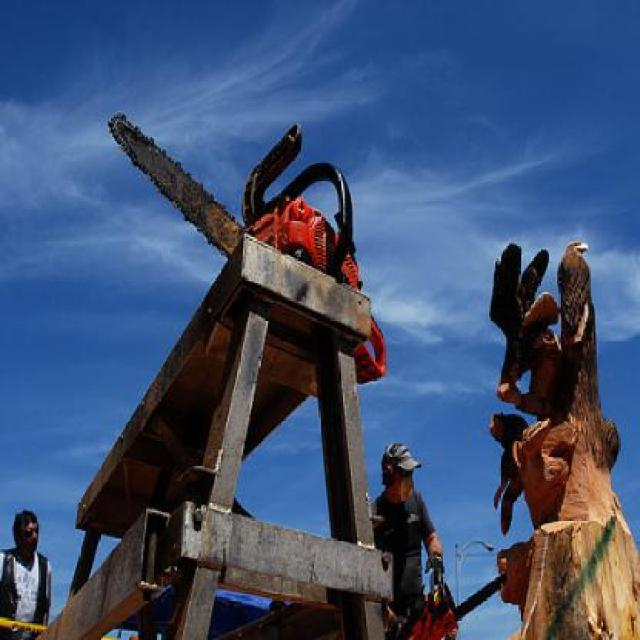Chainsaw: (108, 111, 388, 375), (390, 547, 505, 636)
